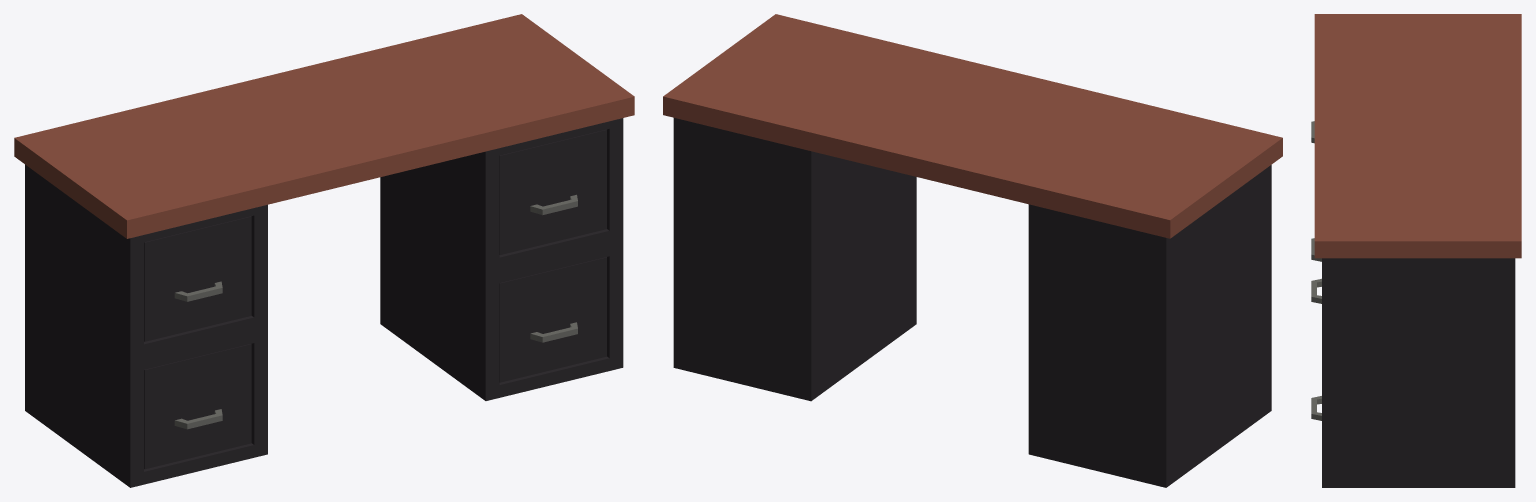
File: Desk.fbx
3 views of the same model, side by side, from view 1: azimuth 30°, elevation 25°; view 2: azimuth 150°, elevation 25°; view 3: azimuth 270°, elevation 25° (orthographic). The views are drawn at different scales.
Visible parts, largest first — view 1: desktop, Drawer.001, Drawer.002; view 2: desktop, Drawer.001, Drawer.002; view 3: desktop, Drawer.002.
Boxes of the visible parts, x1,y1,x2,y2 form: desktop: [14, 14, 634, 238]; Drawer.001: [25, 164, 267, 487]; Drawer.002: [380, 118, 623, 400]; desktop: [663, 14, 1282, 238]; Drawer.001: [1028, 165, 1271, 487]; Drawer.002: [673, 118, 916, 401]; desktop: [1314, 14, 1521, 258]; Drawer.002: [1322, 258, 1515, 487].
Size of the model in its own units: 10000 by 5125 by 3910.
